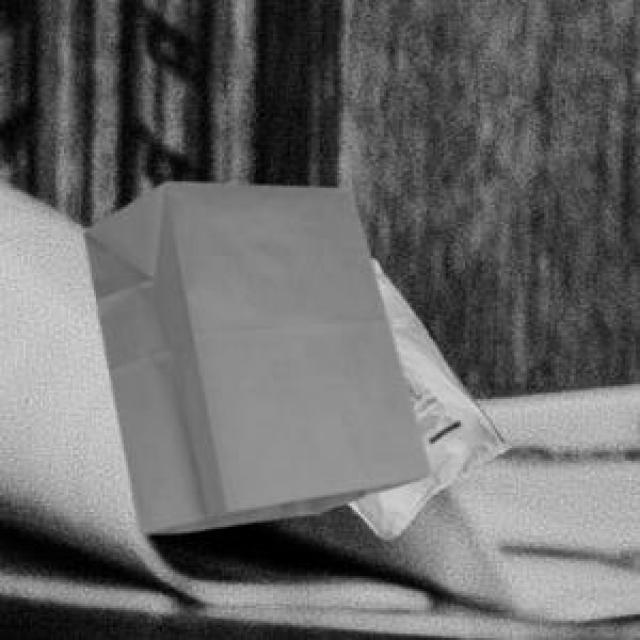paper: (81, 177, 427, 529)
